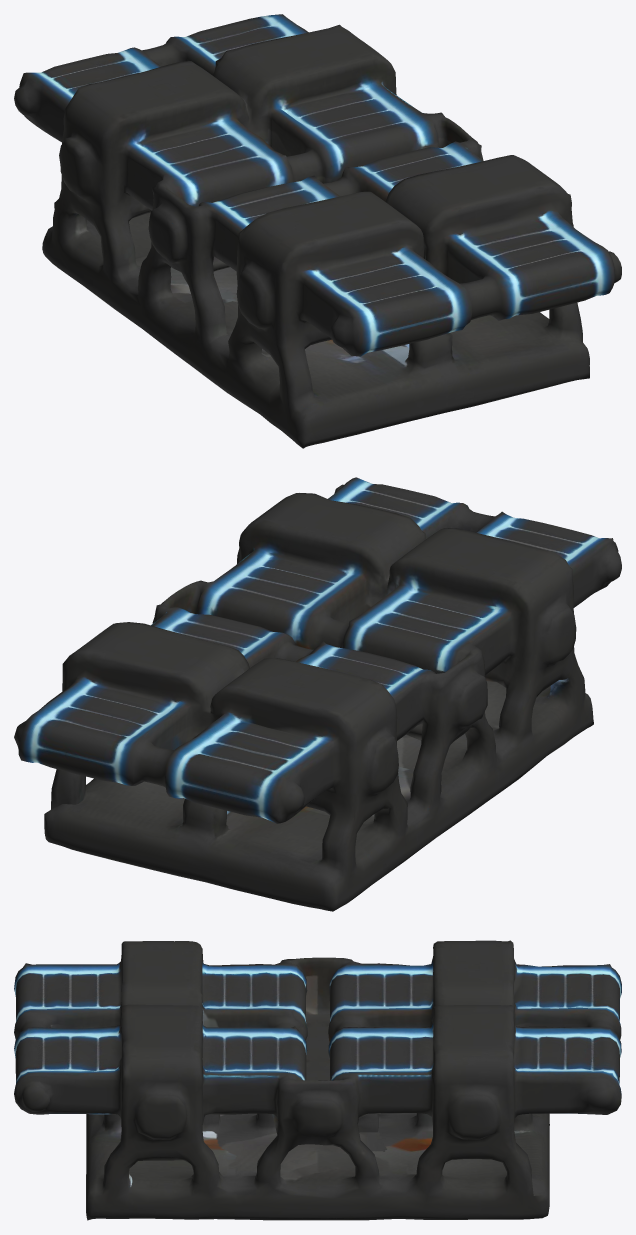
Rendered from Plataform03.fbx.
The picture shows the model from 3 angles, top to bottom: view 1: azimuth 30°, elevation 25°; view 2: azimuth 150°, elevation 25°; view 3: azimuth 270°, elevation 25°; orthographic projection. The views are drawn at different scales.
Visible parts, largest first — view 1: tripo_node_901ba75b; view 2: tripo_node_901ba75b; view 3: tripo_node_901ba75b.
Boxes of the visible parts, x1,y1,x2,y2 form: tripo_node_901ba75b: (14,14,621,448); tripo_node_901ba75b: (14,477,621,911); tripo_node_901ba75b: (14,940,621,1220).
Bounding box in the file's own units: 53.08 × 29.47 × 99.87.
